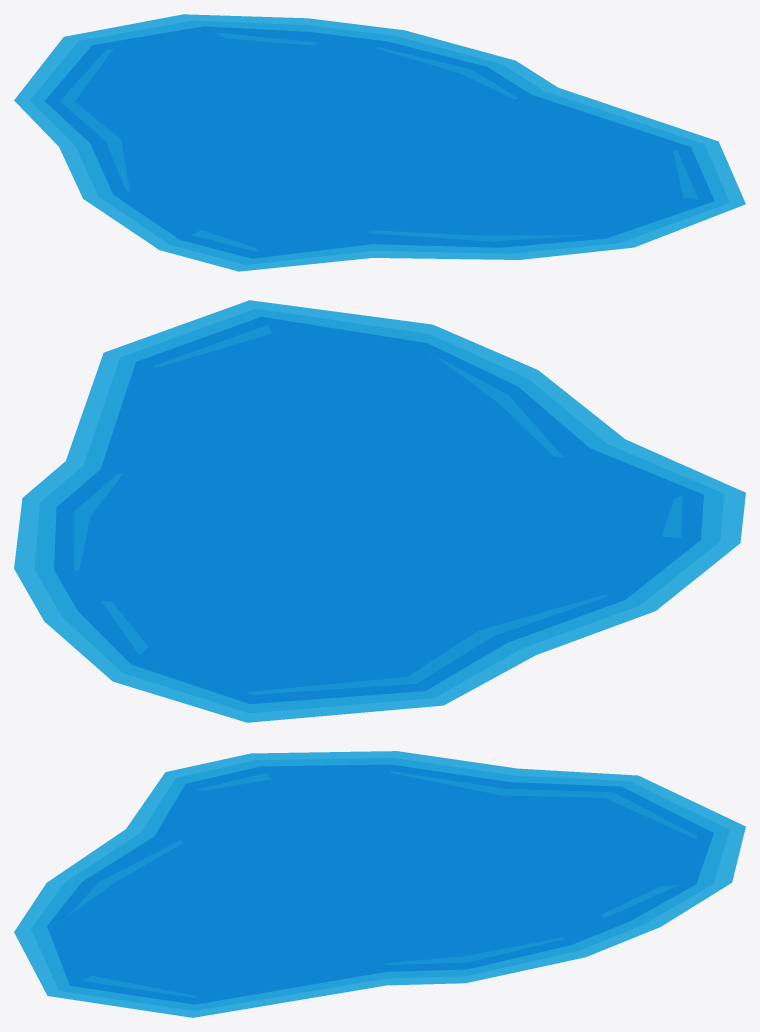
The model's file is Puddle_small.glb.
3 views of the same model, one above another, from view 1: azimuth 30°, elevation 25°; view 2: azimuth 150°, elevation 25°; view 3: azimuth 270°, elevation 25° (orthographic). The views are drawn at different scales.
Parts seen in each view (by area): view 1: Puddle_small; view 2: Puddle_small; view 3: Puddle_small.
Part boxes in pixels (<box>): Puddle_small: <box>14,14,745,271</box>; Puddle_small: <box>14,300,745,722</box>; Puddle_small: <box>14,751,745,1017</box>.
Bounding box in the file's own units: 1.65 × 4.27e-16 × 1.92.
1 material, 1 textured.
